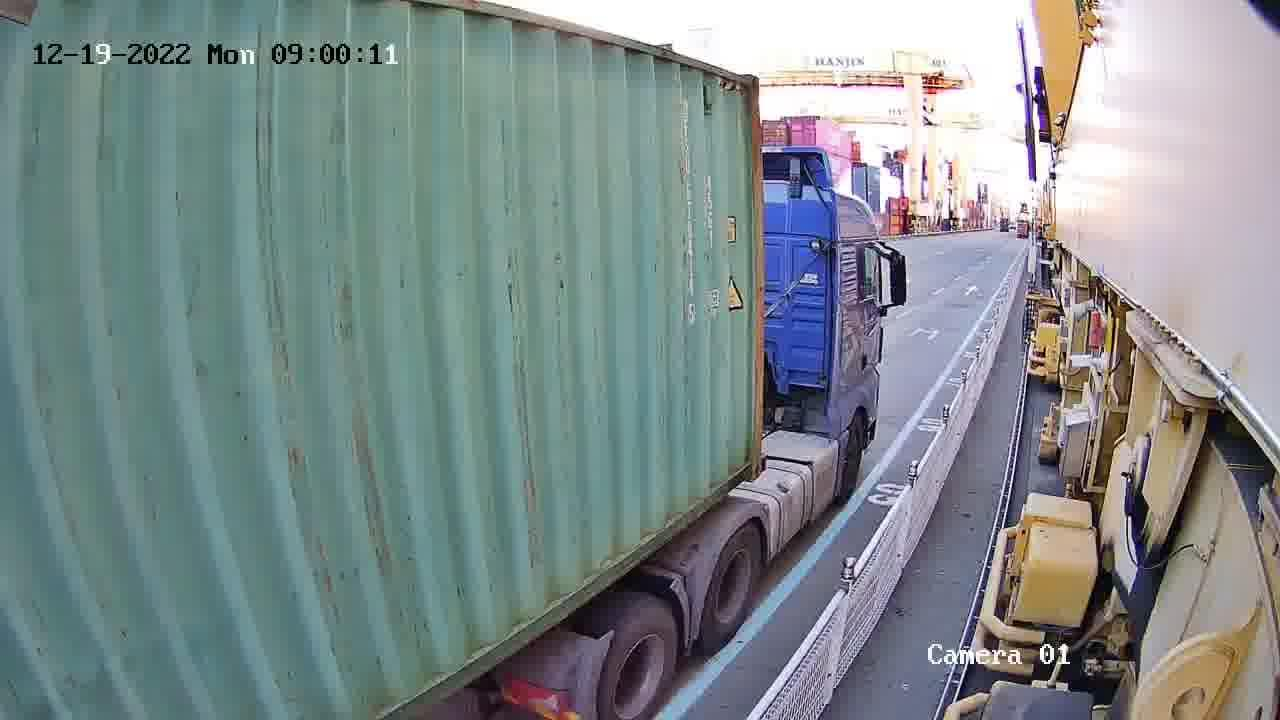Hole_R: (714, 430, 763, 496)
Tire: (600, 609, 676, 719), (700, 530, 762, 647)
